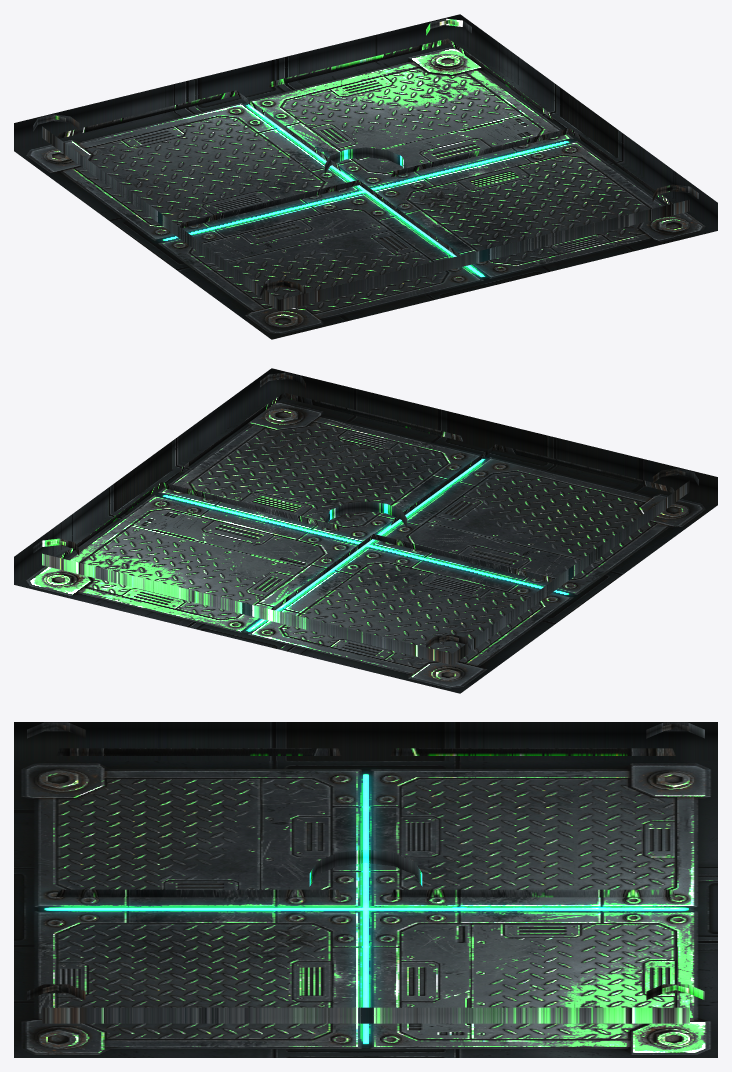
File: ground.glb
3 views of the same model, one above another, from view 1: azimuth 30°, elevation 25°; view 2: azimuth 150°, elevation 25°; view 3: azimuth 270°, elevation 25° (orthographic). The views are drawn at different scales.
Parts seen in each view (by area): view 1: Ground; view 2: Ground; view 3: Ground.
Boxes of the visible parts, x1,y1,x2,y2 form: Ground: [14, 14, 717, 339]; Ground: [14, 368, 717, 693]; Ground: [14, 722, 717, 1057].
Bounding box in the file's own units: 1 × 0.078 × 1.
1 material, 1 textured.
